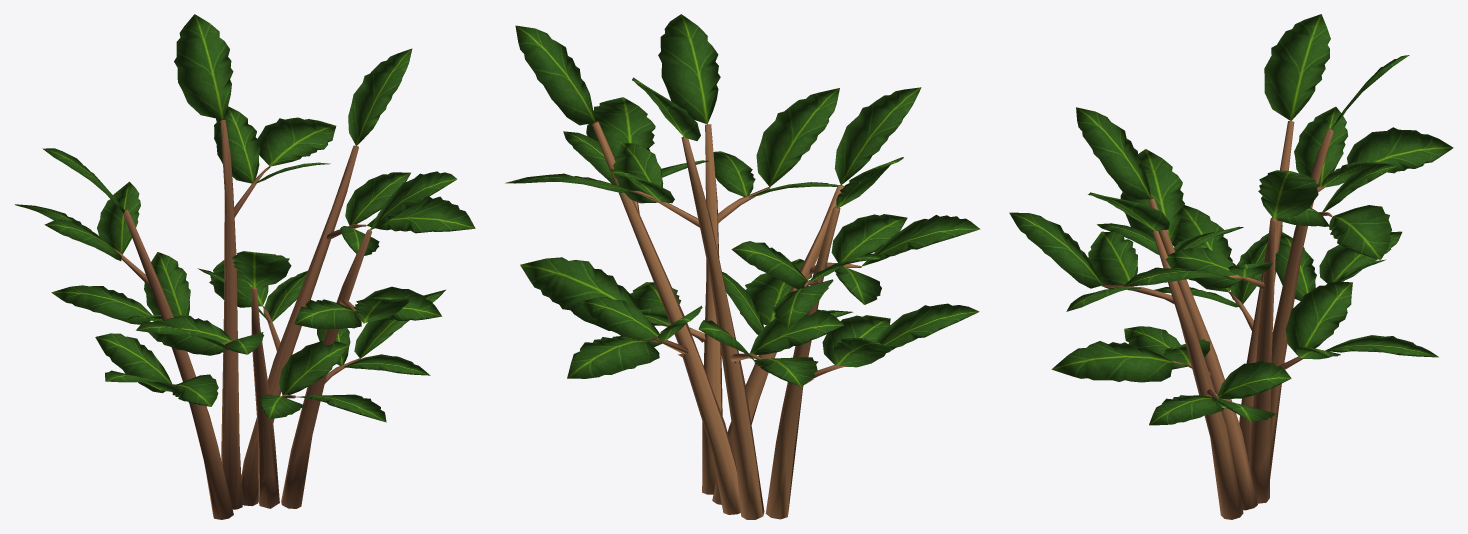
Rendered from NP_Blackberry_Young_LOD1.fbx.
The picture shows the model from 3 angles, left to right: view 1: azimuth 30°, elevation 25°; view 2: azimuth 150°, elevation 25°; view 3: azimuth 270°, elevation 25°; orthographic projection. The views are drawn at different scales.
Parts seen in each view (by area): view 1: NP_Blackberry_Young; view 2: NP_Blackberry_Young; view 3: NP_Blackberry_Young.
Part boxes in pixels (x1,y1,x2,y2): NP_Blackberry_Young: (15,14,475,519); NP_Blackberry_Young: (505,14,980,519); NP_Blackberry_Young: (1009,14,1453,519).
Size of the model in its own units: 45.77 by 50.36 by 44.63.
